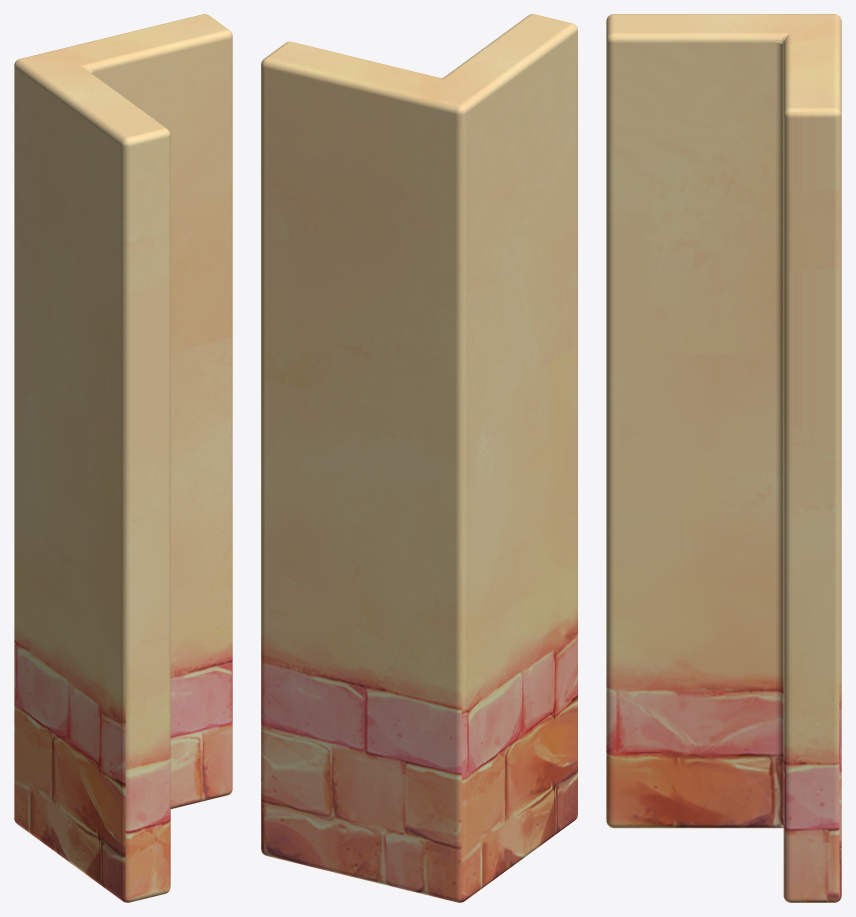
File: Esquina.fbx
The picture shows the model from 3 angles, left to right: view 1: azimuth 30°, elevation 25°; view 2: azimuth 150°, elevation 25°; view 3: azimuth 270°, elevation 25°; orthographic projection. The views are drawn at different scales.
Parts seen in each view (by area): view 1: Pared_corner_izq; view 2: Pared_corner_izq; view 3: Pared_corner_izq.
Part boxes in pixels (box(x1,y1,x2,y2)): Pared_corner_izq: box(14, 14, 232, 902); Pared_corner_izq: box(261, 14, 577, 902); Pared_corner_izq: box(606, 14, 841, 902).
Size of the model in its own units: 401 by 1498 by 402.
